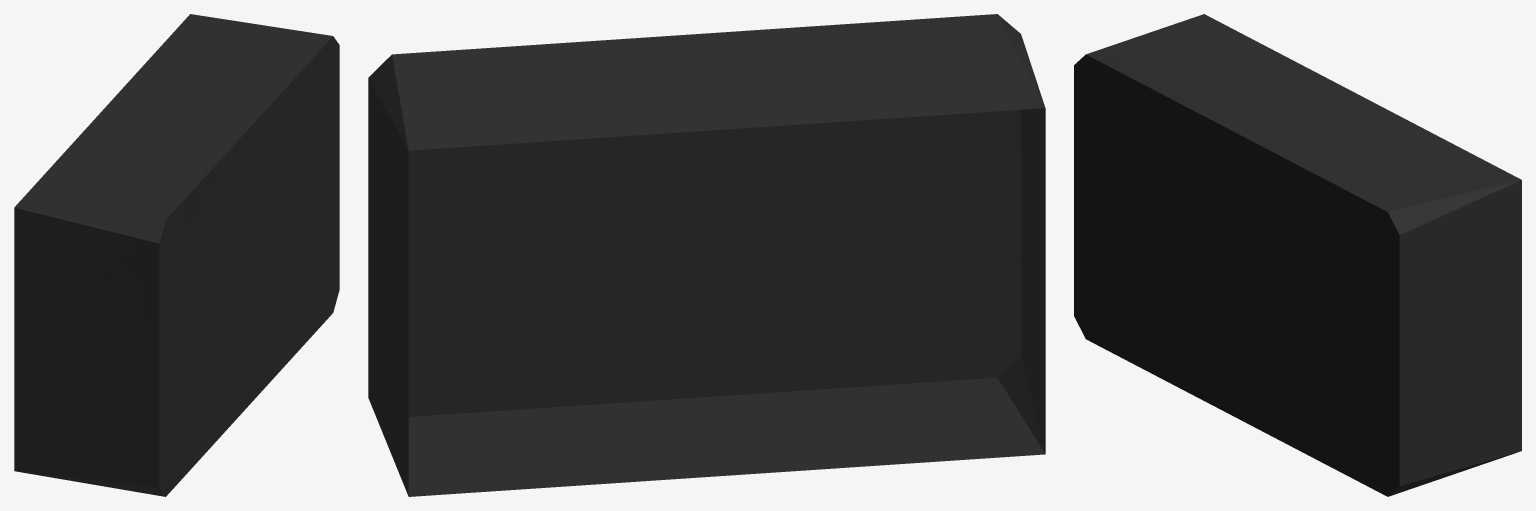
The model's file is mesh27.dat.obj.
3 views of the same model, side by side, from view 1: azimuth 30°, elevation 25°; view 2: azimuth 150°, elevation 25°; view 3: azimuth 270°, elevation 25° (orthographic). The views are drawn at different scales.
Visible parts, largest first — view 1: onoff_case_low; view 2: onoff_case_low; view 3: onoff_case_low.
Boxes of the visible parts, x1,y1,x2,y2 form: onoff_case_low: (14,14,339,496); onoff_case_low: (368,14,1045,496); onoff_case_low: (1074,14,1521,496).
Size of the model in its own units: 0.5914 by 0.372 by 0.5302.
Materials: 1 (1 with a texture image).
